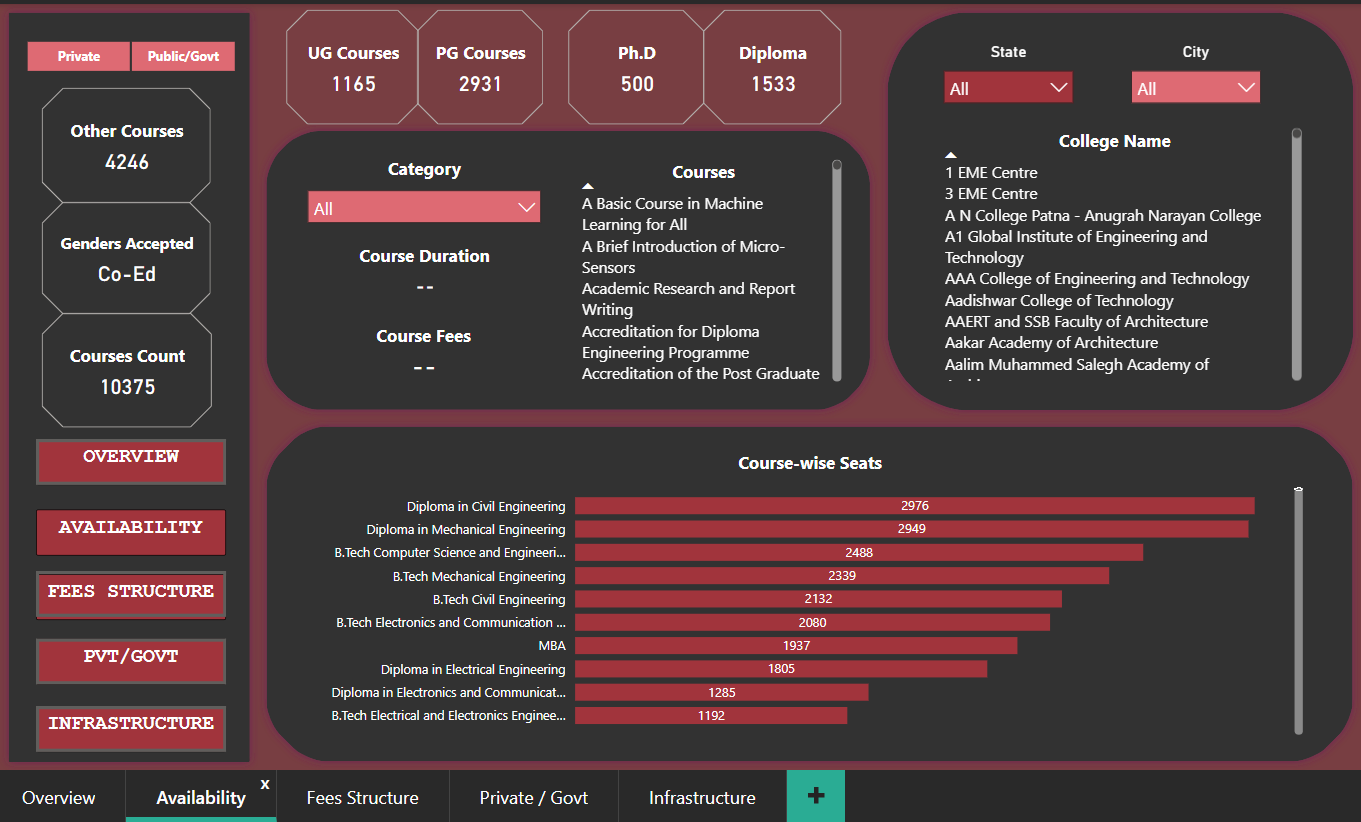

The dashboard page shown, as its layout file describes it:
{"tool":"powerbi","page":{"name":"Availability","canvas":[1280,720],"ordinal":1},"visuals":[{"type":"shape","box":[0,0,242.8,720.5],"z":0},{"type":"cardVisual","fields":{"Data":["Min(College 2.Genders Accepted)"]},"box":[33.6,180.5,169.4,116.6],"z":1000},{"type":"shape","box":[242.8,389.8,1036.9,330.7],"z":2000},{"type":"cardVisual","fields":{"Data":["College 2.DistinctCountCourses"]},"box":[33.6,73.5,169.4,119.8],"z":3000},{"type":"cardVisual","fields":{"Data":["College 2.DistinctCoursesCount"]},"box":[33.3,285,170,118.3],"z":4000},{"type":"slicer","fields":{"Values":["Colleges.College Type"]},"box":[0,28.8,244.4,41.5],"z":5000},{"type":"shape","box":[242.8,111.8,583.1,278],"z":6000},{"type":"shape","box":[826,0,453.7,389.8],"z":7000},{"type":"tableEx","fields":{"Values":["Details.College Name"]},"box":[877.1,111.8,351.5,247.6],"z":8000},{"type":"slicer","title":"Category","fields":{"Values":["Details.Course_Category"]},"box":[279.6,143.8,239.7,71.9],"z":9000},{"type":"barChart","title":"Course-wise Seats","fields":{"Y":["CountNonNull(Details.Seats)"],"Category":["Details.Courses"]},"box":[294,420.2,936.2,271.6],"z":10000},{"type":"card","title":"Course Fees","fields":{"Values":["College 2.FeeDisplay"]},"box":[292.4,300.4,212.5,59.1],"z":11000},{"type":"card","title":"Course Duration","fields":{"Values":["College 2.CourseDurationDisplay"]},"box":[266.8,225.3,265.2,59.1],"z":12000},{"type":"tableEx","title":"Courses","fields":{"Values":["Details.Courses"]},"box":[535.2,140.6,260.4,218.9],"z":13000},{"type":"cardVisual","fields":{"Data":["College 2.DistinctCountCourses"]},"box":[263.6,0,135.8,118.2],"z":14000},{"type":"cardVisual","fields":{"Data":["College 2.DistinctCountCourses"]},"box":[386.6,0,129.4,118.2],"z":15000},{"type":"cardVisual","fields":{"Data":["College 2.DistinctCountCourses"]},"box":[528.3,0,138.3,118.3],"z":16000},{"type":"cardVisual","fields":{"Data":["College 2.DistinctCountCourses"]},"box":[655,0,140,118.3],"z":17000},{"type":"slicer","title":"City","fields":{"Values":["Colleges.City"]},"box":[1052.9,36.7,142.2,75.1],"z":18000},{"type":"slicer","title":"State","fields":{"Values":["Colleges.State"]},"box":[877.1,36.7,142.2,75.1],"z":19000},{"type":"textbox","box":[33.6,409,178.9,43.1],"z":20000},{"type":"textbox","box":[33.6,474.5,178.9,43.1],"z":21000},{"type":"textbox","box":[33.6,535.2,178.9,43.1],"z":22000},{"type":"textbox","box":[33.6,659.8,178.9,43.1],"z":23000},{"type":"actionButton","box":[33.6,659.8,178.9,43.1],"z":24000},{"type":"textbox","box":[33.6,595.9,178.9,43.1],"z":25000},{"type":"actionButton","box":[33.6,533.6,178.9,43.1],"z":26000},{"type":"actionButton","box":[33.6,409,178.9,43.1],"z":27000},{"type":"actionButton","box":[33.6,595.9,178.9,43.1],"z":28000}]}

Visuals, with their boxes on the page's 1280x720 design canvas (x1, y1, x2, y2). These are canvas units, not pixel positions in the 1361x822 screenshot, which may show the page scaled, cropped or inside an application window:
shape: x1=0, y1=0, x2=243, y2=720
cardVisual - Min(College 2.Genders Accepted): x1=34, y1=180, x2=203, y2=297
shape: x1=243, y1=390, x2=1280, y2=720
cardVisual - College 2.DistinctCountCourses: x1=34, y1=74, x2=203, y2=193
cardVisual - College 2.DistinctCoursesCount: x1=33, y1=285, x2=203, y2=403
slicer - Colleges.College Type: x1=0, y1=29, x2=244, y2=70
shape: x1=243, y1=112, x2=826, y2=390
shape: x1=826, y1=0, x2=1280, y2=390
tableEx - Details.College Name: x1=877, y1=112, x2=1229, y2=359
"Category" slicer: x1=280, y1=144, x2=519, y2=216
"Course-wise Seats" barChart: x1=294, y1=420, x2=1230, y2=692
"Course Fees" card: x1=292, y1=300, x2=505, y2=360
"Course Duration" card: x1=267, y1=225, x2=532, y2=284
"Courses" tableEx: x1=535, y1=141, x2=796, y2=360
cardVisual - College 2.DistinctCountCourses: x1=264, y1=0, x2=399, y2=118
cardVisual - College 2.DistinctCountCourses: x1=387, y1=0, x2=516, y2=118
cardVisual - College 2.DistinctCountCourses: x1=528, y1=0, x2=667, y2=118
cardVisual - College 2.DistinctCountCourses: x1=655, y1=0, x2=795, y2=118
"City" slicer: x1=1053, y1=37, x2=1195, y2=112
"State" slicer: x1=877, y1=37, x2=1019, y2=112
textbox: x1=34, y1=409, x2=212, y2=452
textbox: x1=34, y1=474, x2=212, y2=518
textbox: x1=34, y1=535, x2=212, y2=578
textbox: x1=34, y1=660, x2=212, y2=703
actionButton: x1=34, y1=660, x2=212, y2=703
textbox: x1=34, y1=596, x2=212, y2=639
actionButton: x1=34, y1=534, x2=212, y2=577
actionButton: x1=34, y1=409, x2=212, y2=452
actionButton: x1=34, y1=596, x2=212, y2=639
